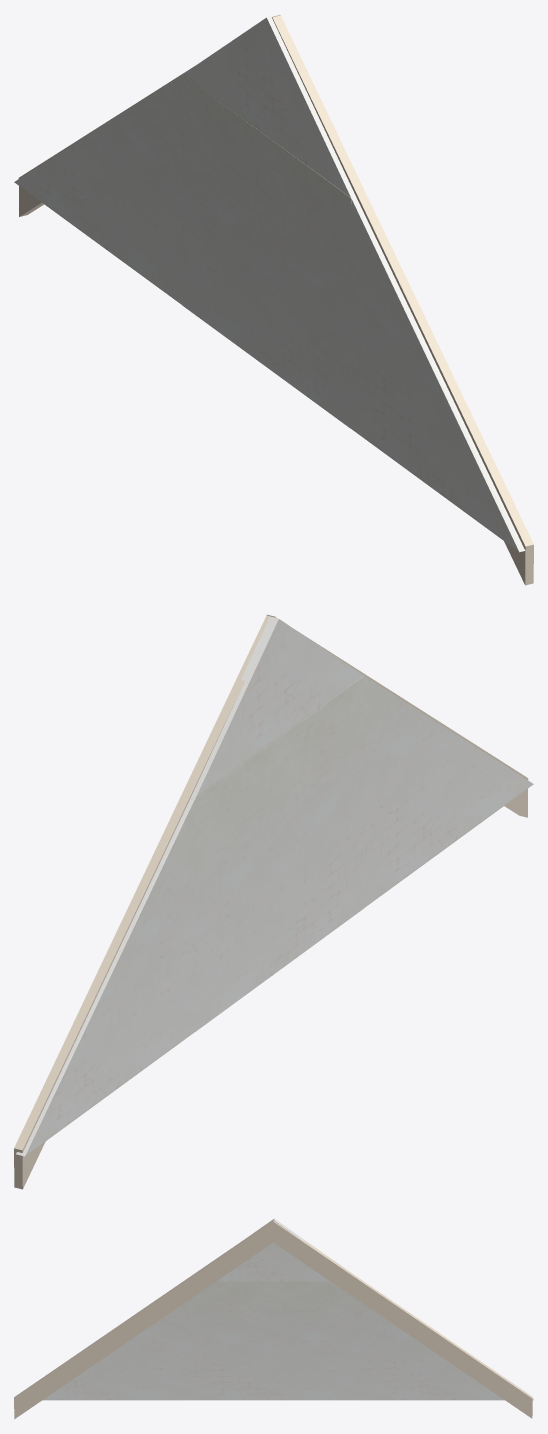
File: sm_building_triwall01_01.fbx
3 views of the same model, one above another, from view 1: azimuth 30°, elevation 25°; view 2: azimuth 150°, elevation 25°; view 3: azimuth 270°, elevation 25° (orthographic). The views are drawn at different scales.
Parts seen in each view (by area): view 1: sm_building_wall02_26, Prism_8, Prism_9, Prism_7, sm_building_wood01_04, sm_building_wood01_05; view 2: sm_building_wall02_26, Prism_9, Prism_8, Prism_7, sm_building_wood01_05, sm_building_wood01_04; view 3: sm_building_wall02_26, Prism_8, Prism_9, sm_building_wood01_04, sm_building_wood01_05, Prism_7.
Boxes of the visible parts, x1,y1,x2,y2 form: sm_building_wall02_26: (182, 75, 351, 428); Prism_8: (351, 196, 525, 552); Prism_9: (14, 75, 182, 304); Prism_7: (182, 15, 355, 197); sm_building_wood01_04: (272, 14, 533, 585); sm_building_wood01_05: (18, 15, 280, 216); sm_building_wall02_26: (194, 676, 364, 1031); Prism_9: (16, 799, 194, 1156); Prism_8: (364, 676, 533, 907); Prism_7: (190, 616, 363, 799); sm_building_wood01_05: (14, 614, 275, 1189); sm_building_wood01_04: (267, 615, 528, 817); sm_building_wall02_26: (187, 1281, 360, 1400); Prism_8: (43, 1301, 187, 1400); Prism_9: (360, 1302, 533, 1400); sm_building_wood01_04: (14, 1219, 273, 1419); sm_building_wood01_05: (273, 1220, 532, 1418); Prism_7: (216, 1218, 348, 1281).
Bounding box in the file's own units: 25.42 × 649 × 1547.
